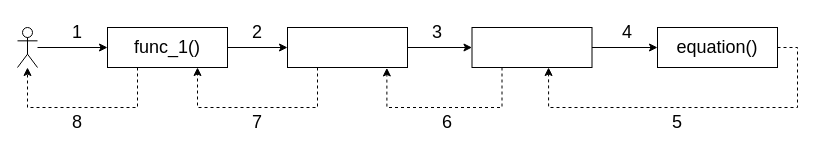
Image size: 823x154. Some labels were removed from this diagram. The centre of each missing label's shape, as x and y in pixels:
"func_2()" belongs at point 347,47.
"func_3()" belongs at point 531,47.
